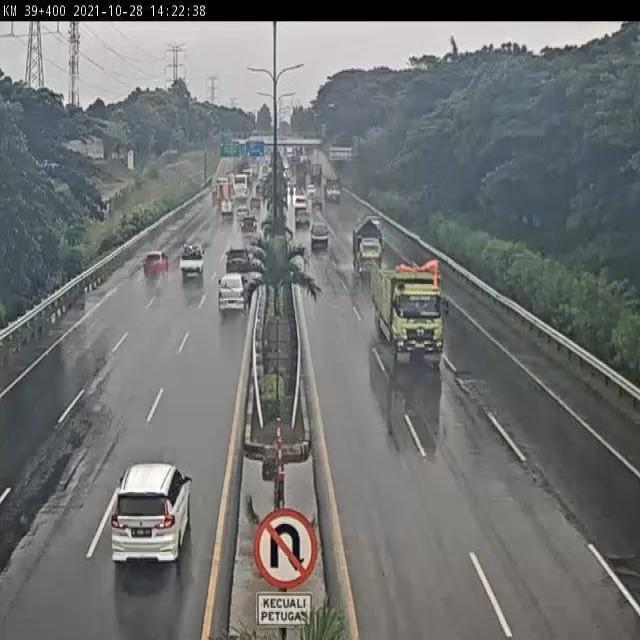KAMYONET: (353, 216, 387, 281)
TIR: (364, 255, 448, 366)
